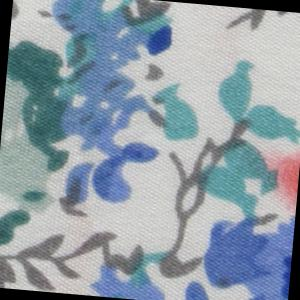Stain: (248, 141, 300, 220)
